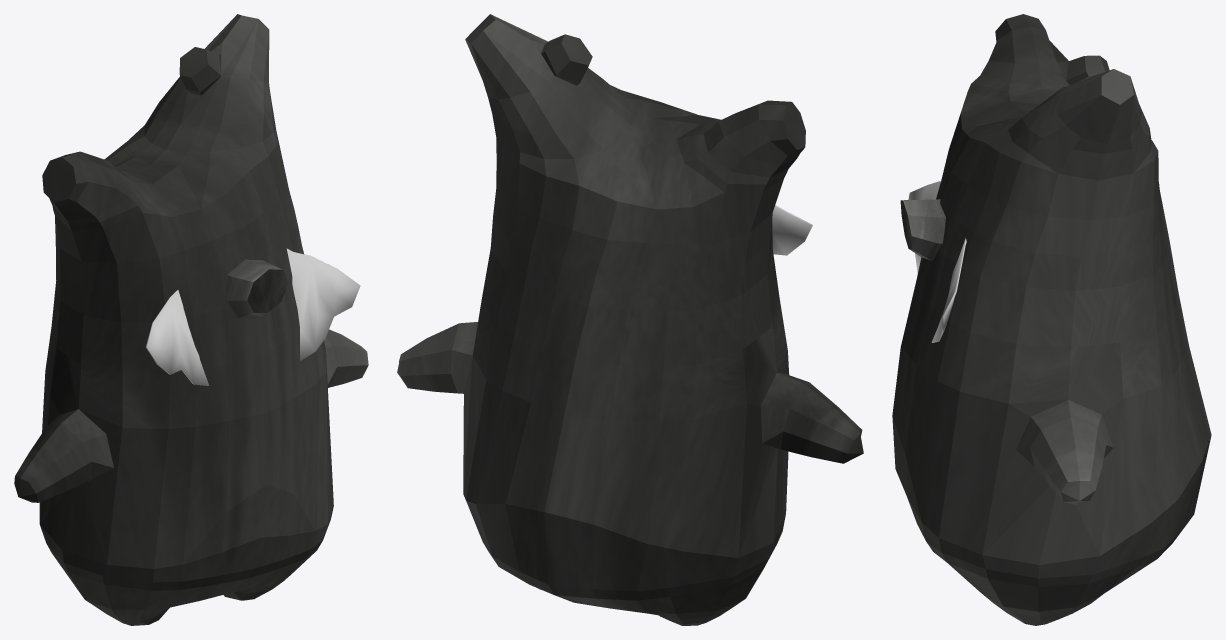
File: frame_0053.obj
3 renders of one model, left to right at view 1: azimuth 30°, elevation 25°; view 2: azimuth 150°, elevation 25°; view 3: azimuth 270°, elevation 25°, orthographic. The views are drawn at different scales.
Visible parts, largest first — view 1: korok, leaf, nose; view 2: korok, leaf; view 3: korok, nose, leaf.
Part boxes in pixels (x1,y1,x2,y2): korok: (14, 14, 368, 625); leaf: (146, 248, 360, 385); nose: (224, 259, 288, 318); korok: (397, 14, 863, 625); leaf: (772, 205, 812, 255); korok: (892, 14, 1211, 625); nose: (900, 199, 945, 260); leaf: (908, 181, 966, 342).
Size of the model in its own units: 1.7 by 2.3 by 1.16.
